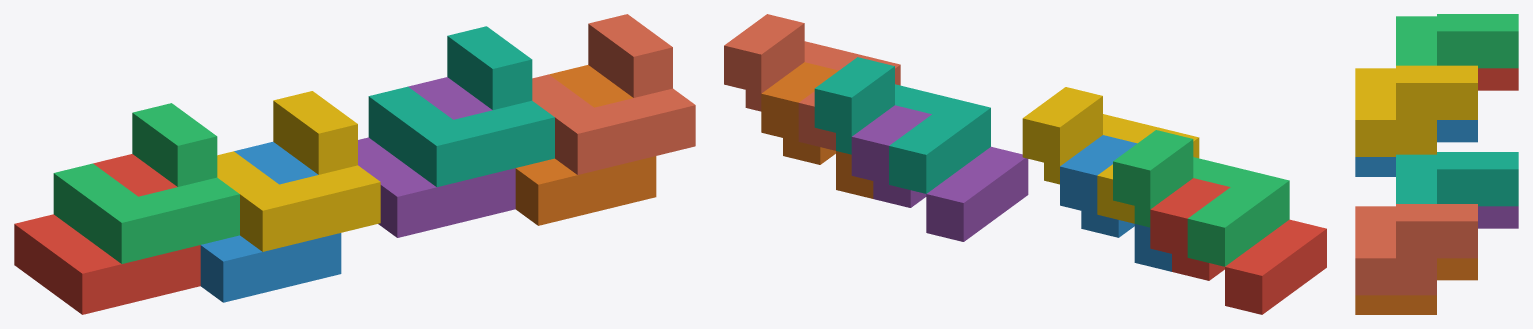
The model's file is tiling.obj.
The picture shows the model from 3 angles, left to right: view 1: azimuth 30°, elevation 25°; view 2: azimuth 150°, elevation 25°; view 3: azimuth 270°, elevation 25°; orthographic projection. The views are drawn at different scales.
Parts seen in each view (by area): view 1: copy_1_domain_7, copy_1_domain_3, copy_1_domain_4, copy_1_domain_8, copy_1_domain_1, copy_1_domain_5, copy_1_domain_2, copy_1_domain_6; view 2: copy_1_domain_3, copy_1_domain_7, copy_1_domain_5, copy_1_domain_1, copy_1_domain_8, copy_1_domain_4, copy_1_domain_2, copy_1_domain_6; view 3: copy_1_domain_8, copy_1_domain_4, copy_1_domain_3, copy_1_domain_7, copy_1_domain_6, copy_1_domain_2, copy_1_domain_1, copy_1_domain_5.
Part boxes in pixels (x1=…): copy_1_domain_7: x1=368, y1=26, x2=554, y2=186; copy_1_domain_3: x1=53, y1=103, x2=239, y2=263; copy_1_domain_4: x1=217, y1=91, x2=380, y2=251; copy_1_domain_8: x1=532, y1=14, x2=695, y2=174; copy_1_domain_1: x1=14, y1=154, x2=200, y2=314; copy_1_domain_5: x1=358, y1=77, x2=515, y2=237; copy_1_domain_2: x1=200, y1=142, x2=341, y2=302; copy_1_domain_6: x1=515, y1=65, x2=656, y2=225; copy_1_domain_3: x1=1113, y1=130, x2=1289, y2=266; copy_1_domain_7: x1=814, y1=57, x2=990, y2=193; copy_1_domain_5: x1=851, y1=105, x2=1028, y2=241; copy_1_domain_1: x1=1150, y1=178, x2=1326, y2=314; copy_1_domain_8: x1=724, y1=14, x2=900, y2=150; copy_1_domain_4: x1=1022, y1=87, x2=1199, y2=223; copy_1_domain_2: x1=1060, y1=135, x2=1171, y2=271; copy_1_domain_6: x1=761, y1=62, x2=873, y2=198; copy_1_domain_8: x1=1355, y1=204, x2=1477, y2=295; copy_1_domain_4: x1=1355, y1=65, x2=1477, y2=156; copy_1_domain_3: x1=1396, y1=14, x2=1518, y2=68; copy_1_domain_7: x1=1396, y1=152, x2=1518, y2=206; copy_1_domain_6: x1=1355, y1=258, x2=1477, y2=314; copy_1_domain_2: x1=1355, y1=120, x2=1477, y2=176; copy_1_domain_1: x1=1478, y1=68, x2=1518, y2=90; copy_1_domain_5: x1=1478, y1=206, x2=1518, y2=228.
Size of the model in its own units: 15 by 3 by 4.
